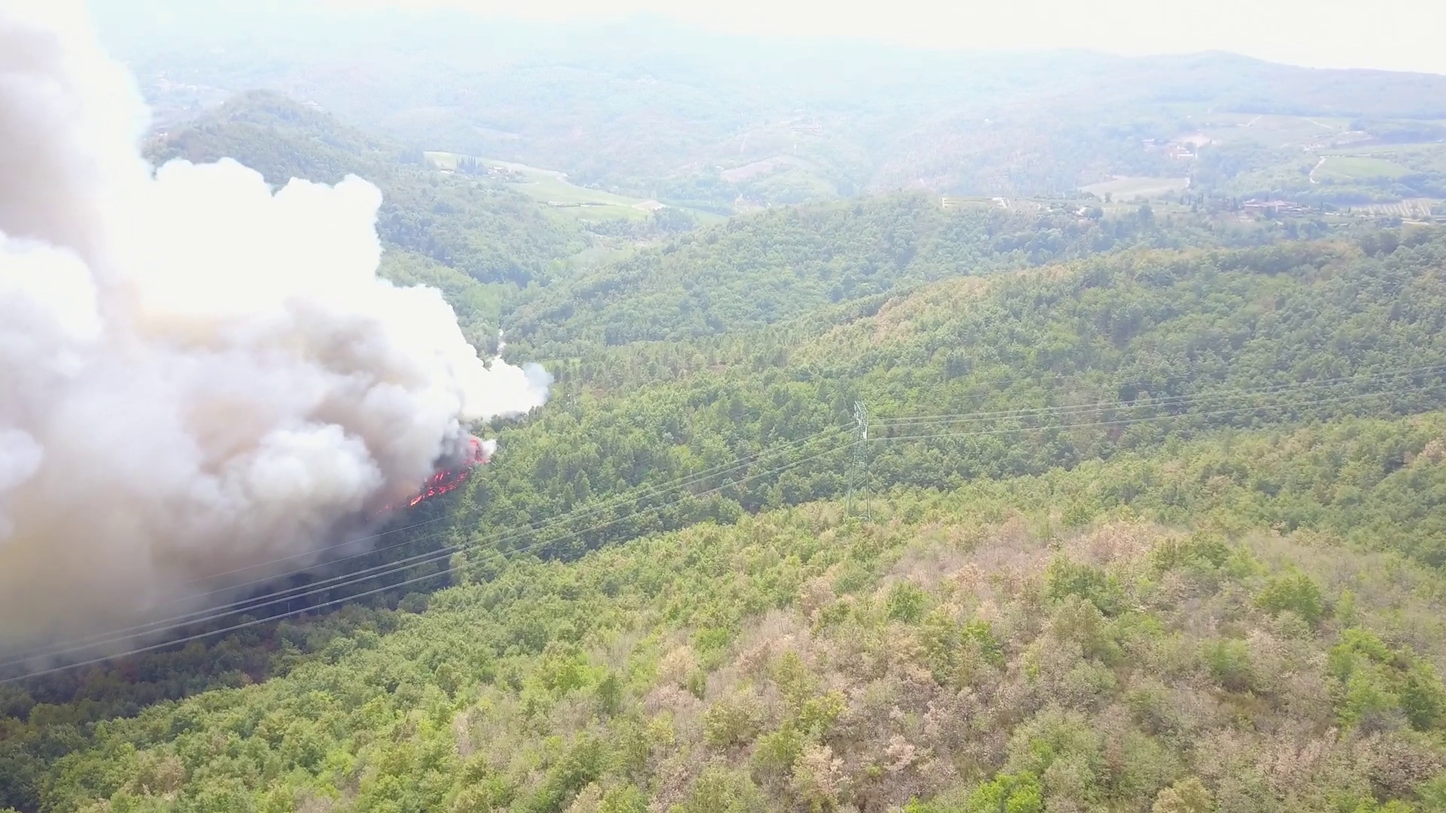forest_fire: (408, 437, 490, 506)
